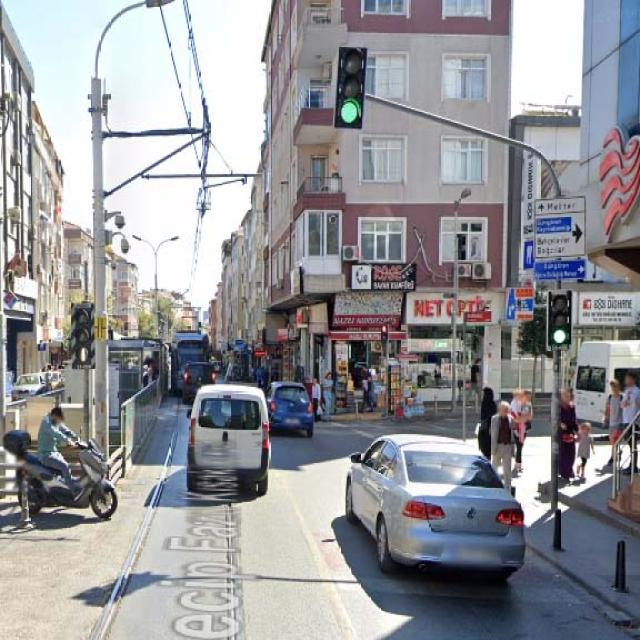yesil: (334, 47, 366, 129), (548, 290, 571, 348)
